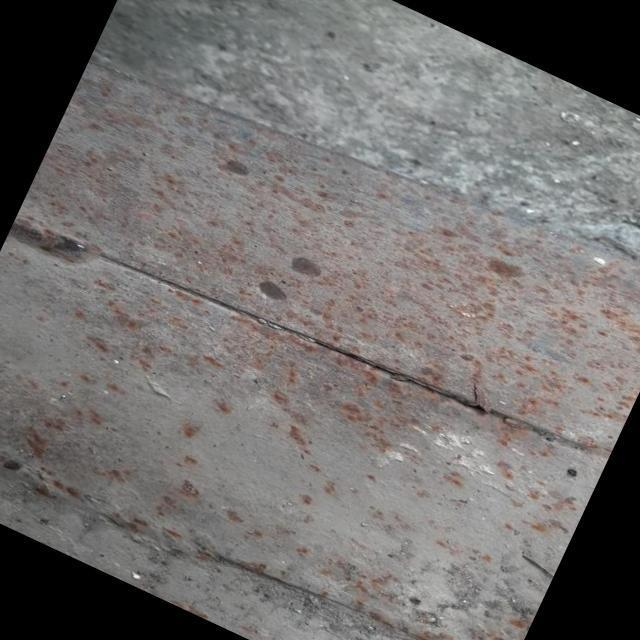defect: (289, 327, 504, 420)
